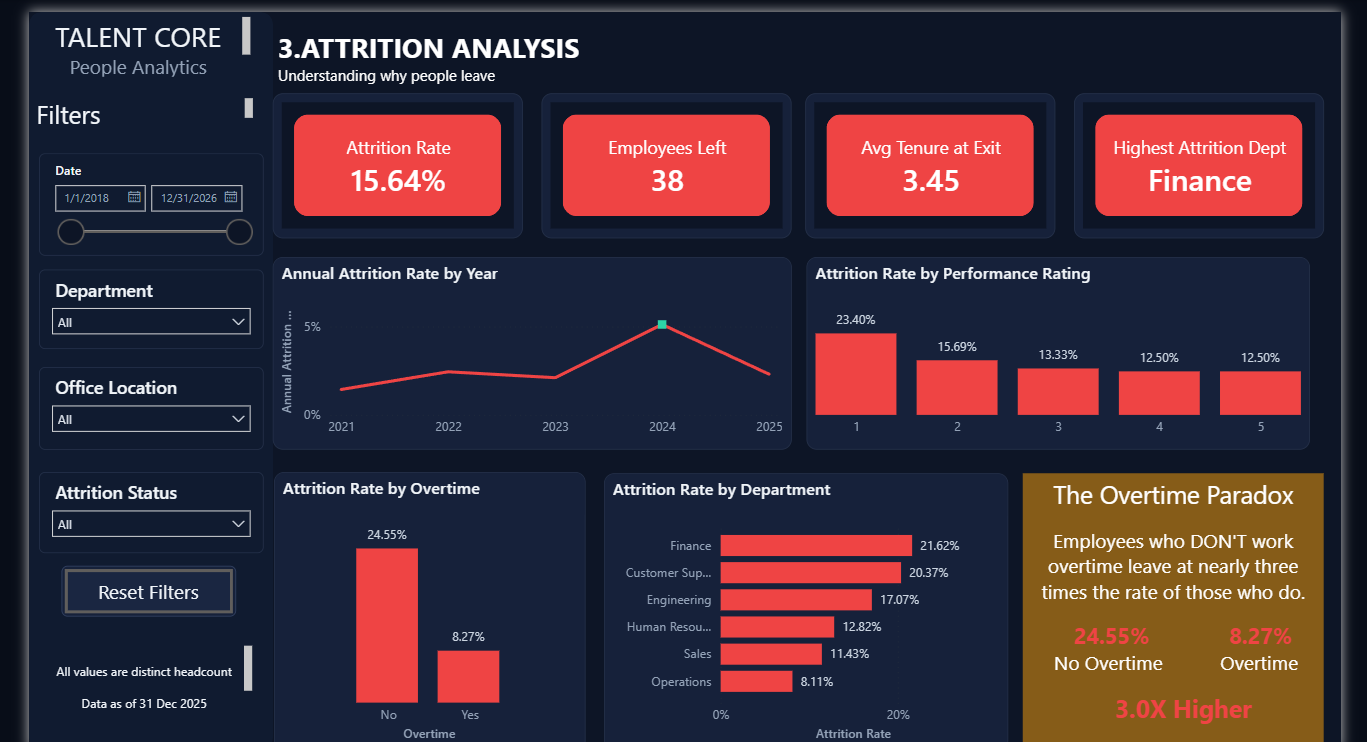

The dashboard page shown, as its layout file describes it:
{"tool":"powerbi","page":{"name":"Attrition Analysis","canvas":[1280,720],"ordinal":2},"visuals":[{"type":"shape","box":[0,0,238.1,720],"z":0},{"type":"textbox","box":[0,0,221.1,68.4],"z":1000},{"type":"textbox","box":[1.9,79.4,221.1,45.4],"z":2000},{"type":"slicer","fields":{"Values":["Date Table.Date"]},"box":[9.5,138.4,219.5,100.2],"z":3000},{"type":"slicer","fields":{"Values":["TalentCore_HR_Workforce_Data.Department"]},"box":[9.5,251.3,219.5,77.9],"z":4000},{"type":"slicer","fields":{"Values":["TalentCore_HR_Workforce_Data.Office Location"]},"box":[9.5,346.8,219.5,81.1],"z":5000},{"type":"slicer","fields":{"Values":["TalentCore_HR_Workforce_Data.Attrition Status"]},"box":[9.5,448.6,219.5,79.5],"z":6000},{"type":"actionButton","box":[31.8,540.8,170.2,49.3],"z":7000},{"type":"textbox","box":[9.5,614,213.1,74.8],"z":8000},{"type":"cardVisual","fields":{"Data":["TalentCore_HR_Workforce_Data.Attrition Rate"]},"box":[237.5,79.2,244.1,141.9],"z":9000},{"type":"cardVisual","fields":{"Data":["TalentCore_HR_Workforce_Data.Employees Left"]},"box":[499.8,79.2,244.1,141.9],"z":10000},{"type":"cardVisual","fields":{"Data":["TalentCore_HR_Workforce_Data.Avg Tenure at Exit"]},"box":[757.1,79.2,244.1,141.9],"z":11000},{"type":"cardVisual","fields":{"Data":["TalentCore_HR_Workforce_Data.Highest Attrition Dept"]},"box":[1019.4,79.2,244.1,141.9],"z":12000},{"type":"lineChart","fields":{"Category":["Date Table.Year"],"Y":["TalentCore_HR_Workforce_Data.Annual Attrition Rate"]},"box":[237.5,239.2,506.4,188],"z":13000},{"type":"clusteredBarChart","fields":{"Category":["TalentCore_HR_Workforce_Data.Department"],"Y":["TalentCore_HR_Workforce_Data.Attrition Rate"]},"box":[560.8,450.3,394.2,270.5],"z":14000},{"type":"clusteredColumnChart","fields":{"Y":["TalentCore_HR_Workforce_Data.Attrition Rate"],"Category":["TalentCore_HR_Workforce_Data.Overtime"]},"box":[238.6,448.6,303.8,272],"z":15000},{"type":"columnChart","fields":{"Y":["TalentCore_HR_Workforce_Data.Attrition Rate"],"Category":["TalentCore_HR_Workforce_Data.Performance Rating"]},"box":[758.8,239.2,491.5,188],"z":16000},{"type":"textbox","box":[969.9,450.3,293.6,270.5],"z":17000},{"type":"textbox","box":[237.5,11.5,1026,67.6],"z":18000}]}

Visuals, with their boxes on the page's 1280x720 design canvas (x1, y1, x2, y2). These are canvas units, not pixel positions in the 1367x742 screenshot, which may show the page scaled, cropped or inside an application window:
shape: rect(0, 0, 238, 720)
textbox: rect(0, 0, 221, 68)
textbox: rect(2, 79, 223, 125)
slicer - Date Table.Date: rect(10, 138, 229, 239)
slicer - TalentCore_HR_Workforce_Data.Department: rect(10, 251, 229, 329)
slicer - TalentCore_HR_Workforce_Data.Office Location: rect(10, 347, 229, 428)
slicer - TalentCore_HR_Workforce_Data.Attrition Status: rect(10, 449, 229, 528)
actionButton: rect(32, 541, 202, 590)
textbox: rect(10, 614, 223, 689)
cardVisual - TalentCore_HR_Workforce_Data.Attrition Rate: rect(238, 79, 482, 221)
cardVisual - TalentCore_HR_Workforce_Data.Employees Left: rect(500, 79, 744, 221)
cardVisual - TalentCore_HR_Workforce_Data.Avg Tenure at Exit: rect(757, 79, 1001, 221)
cardVisual - TalentCore_HR_Workforce_Data.Highest Attrition Dept: rect(1019, 79, 1264, 221)
lineChart - Date Table.Year x TalentCore_HR_Workforce_Data.Annual Attrition Rate: rect(238, 239, 744, 427)
clusteredBarChart - TalentCore_HR_Workforce_Data.Department x TalentCore_HR_Workforce_Data.Attrition Rate: rect(561, 450, 955, 721)
clusteredColumnChart - TalentCore_HR_Workforce_Data.Attrition Rate x TalentCore_HR_Workforce_Data.Overtime: rect(239, 449, 542, 721)
columnChart - TalentCore_HR_Workforce_Data.Attrition Rate x TalentCore_HR_Workforce_Data.Performance Rating: rect(759, 239, 1250, 427)
textbox: rect(970, 450, 1264, 721)
textbox: rect(238, 12, 1264, 79)
